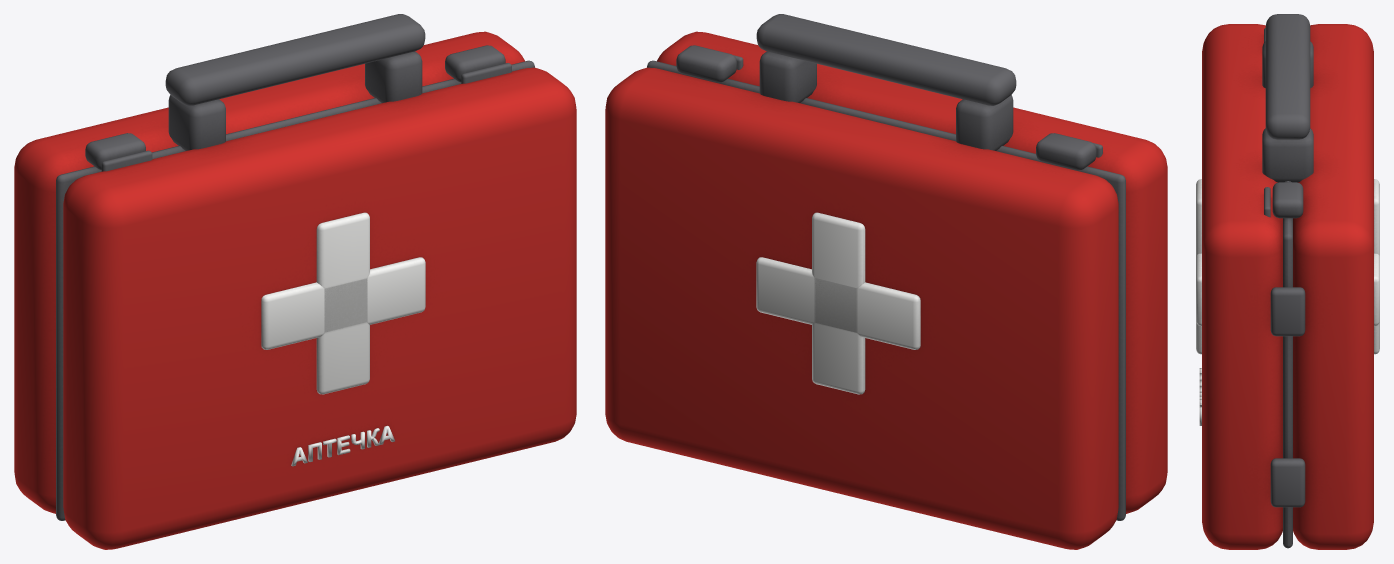
Rendered from FirstAidKit.glb.
The picture shows the model from 3 angles, left to right: view 1: azimuth 30°, elevation 25°; view 2: azimuth 150°, elevation 25°; view 3: azimuth 270°, elevation 25°; orthographic projection. The views are drawn at different scales.
Parts seen in each view (by area): view 1: FirstAidKit; view 2: FirstAidKit; view 3: FirstAidKit.
Boxes of the visible parts, x1,y1,x2,y2 form: FirstAidKit: (14,14,576,549); FirstAidKit: (605,14,1167,549); FirstAidKit: (1196,14,1379,549).
Size of the model in its own units: 0.306 by 0.248 by 0.107.
Materials: 1 (1 with a texture image).
